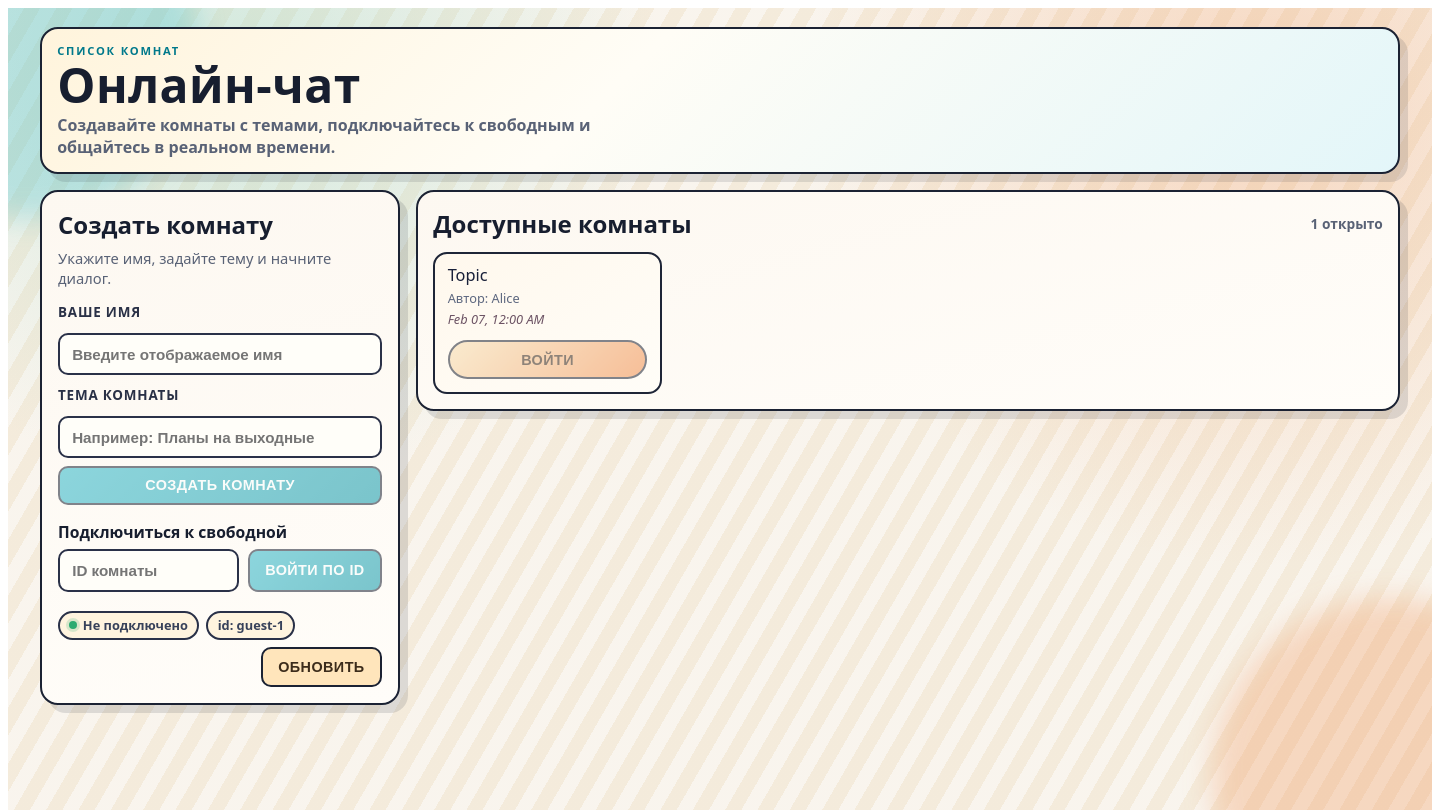
Test: App › joins free room and sends websocket auth handshake
The image size is (1440, 810).
Type "Bob" into the field with id "user-name" at {"x": 220, "y": 354}, box top-left (58, 333), bottom-right (382, 375)
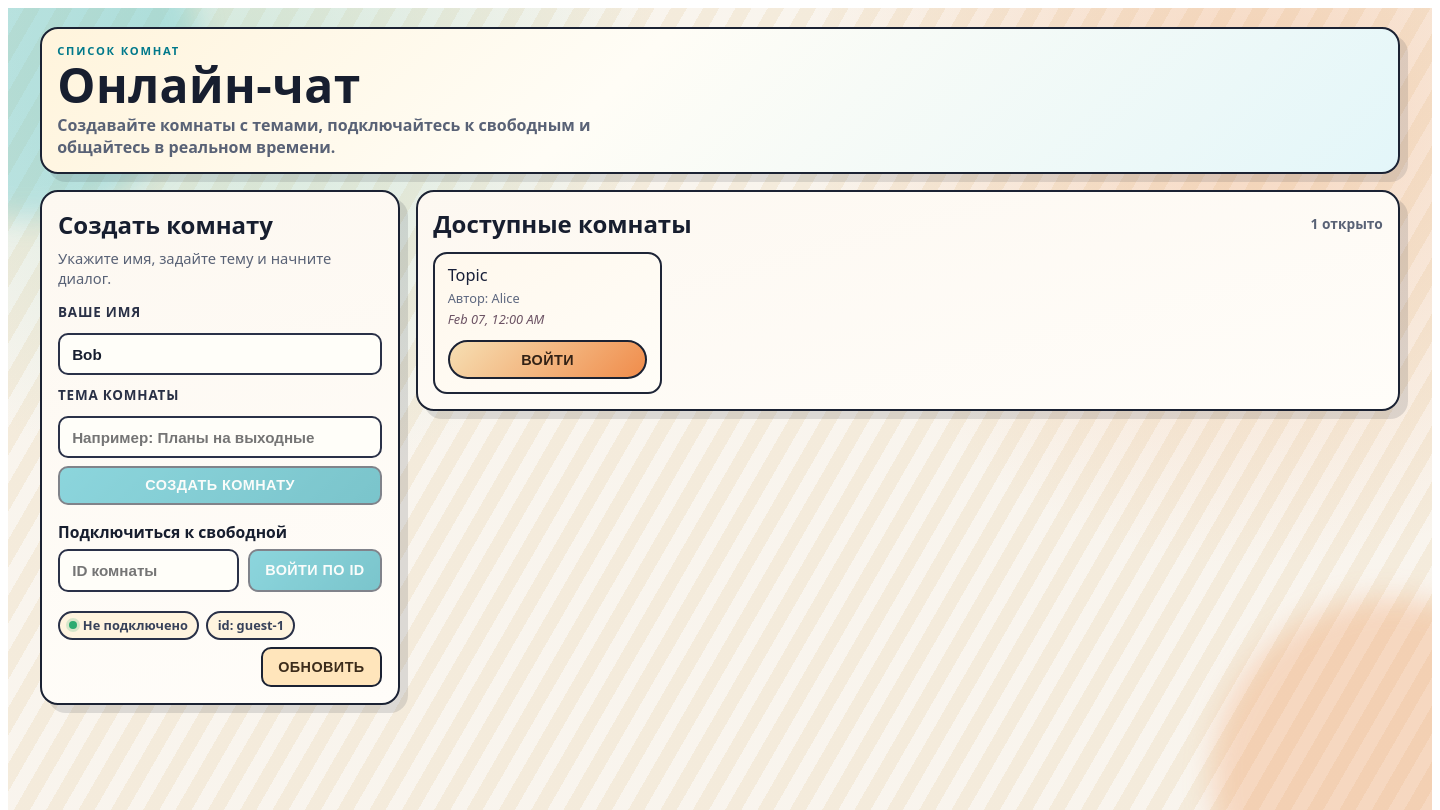
Click the button "Войти" at {"x": 548, "y": 360}, box top-left (448, 340), bottom-right (648, 379)
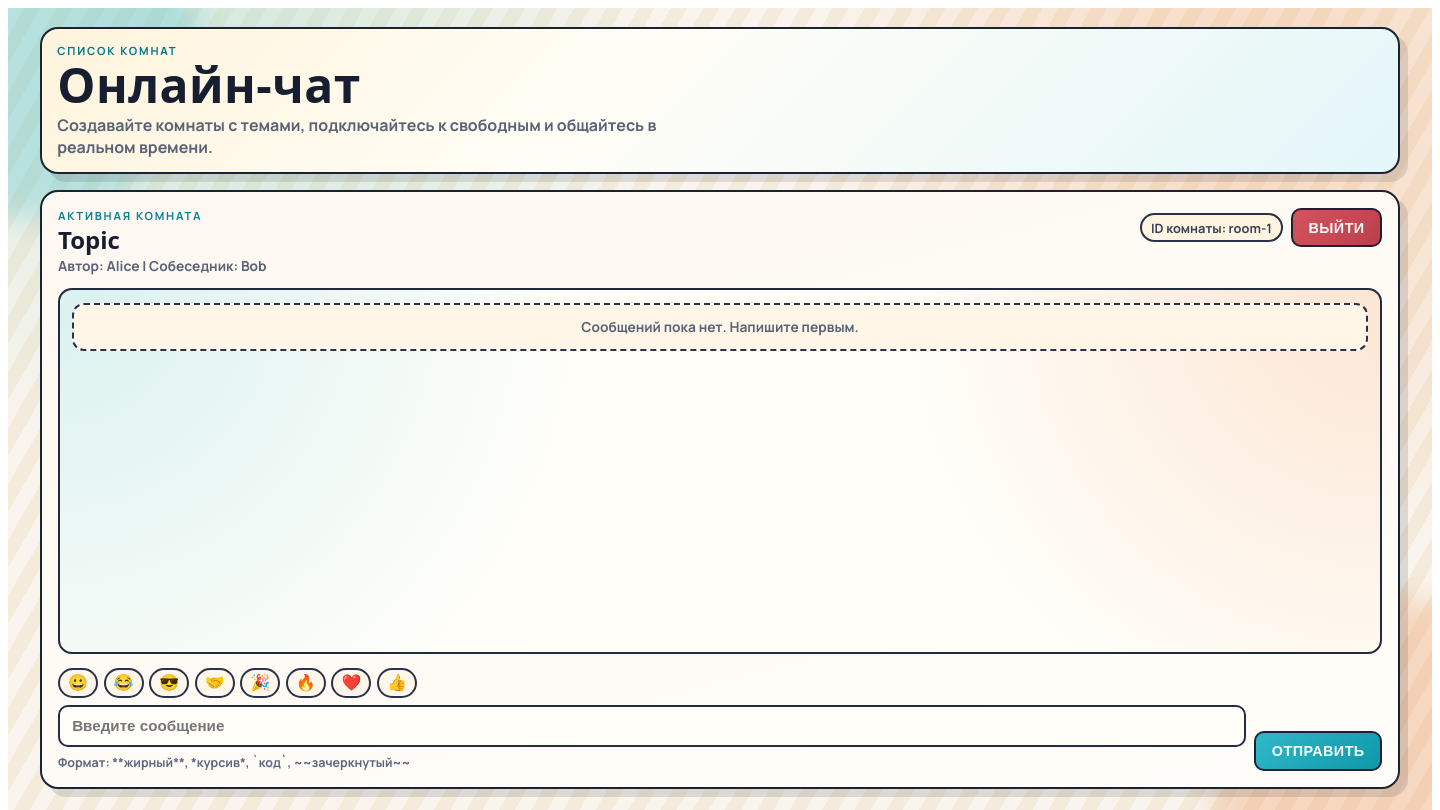
expect the text "Выйти" is shown: met, box top-left (1291, 208), bottom-right (1382, 248)
